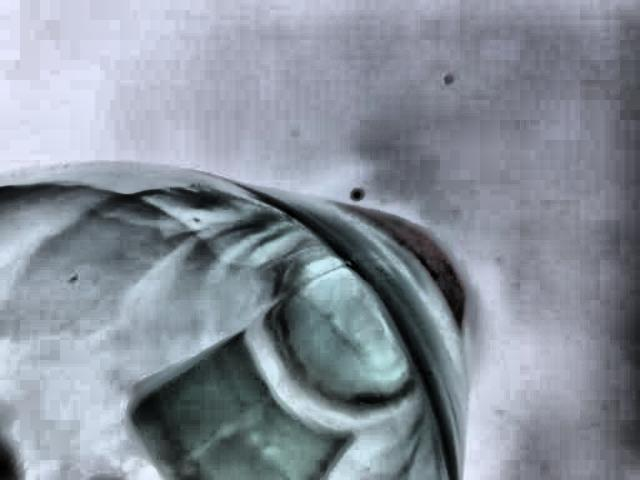Bottles: (0, 141, 482, 480)
